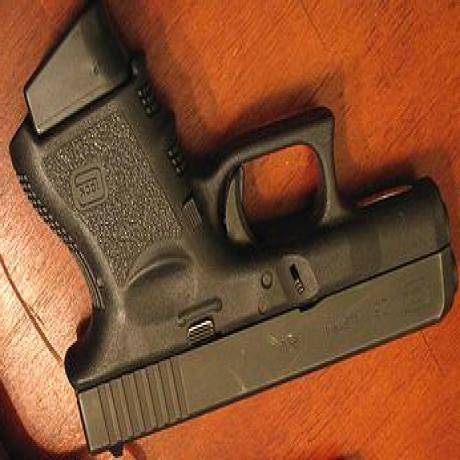weapon: (0, 22, 454, 460)
